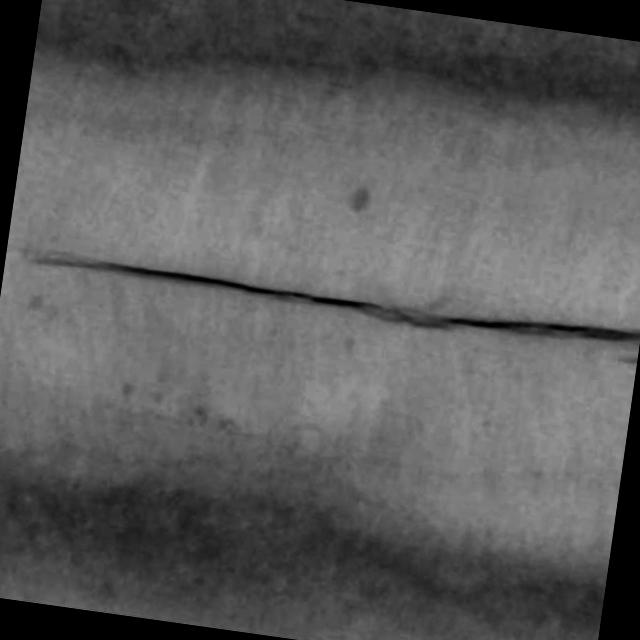LoP-LoF: (7, 221, 640, 378)
Pore: (317, 177, 384, 215)
